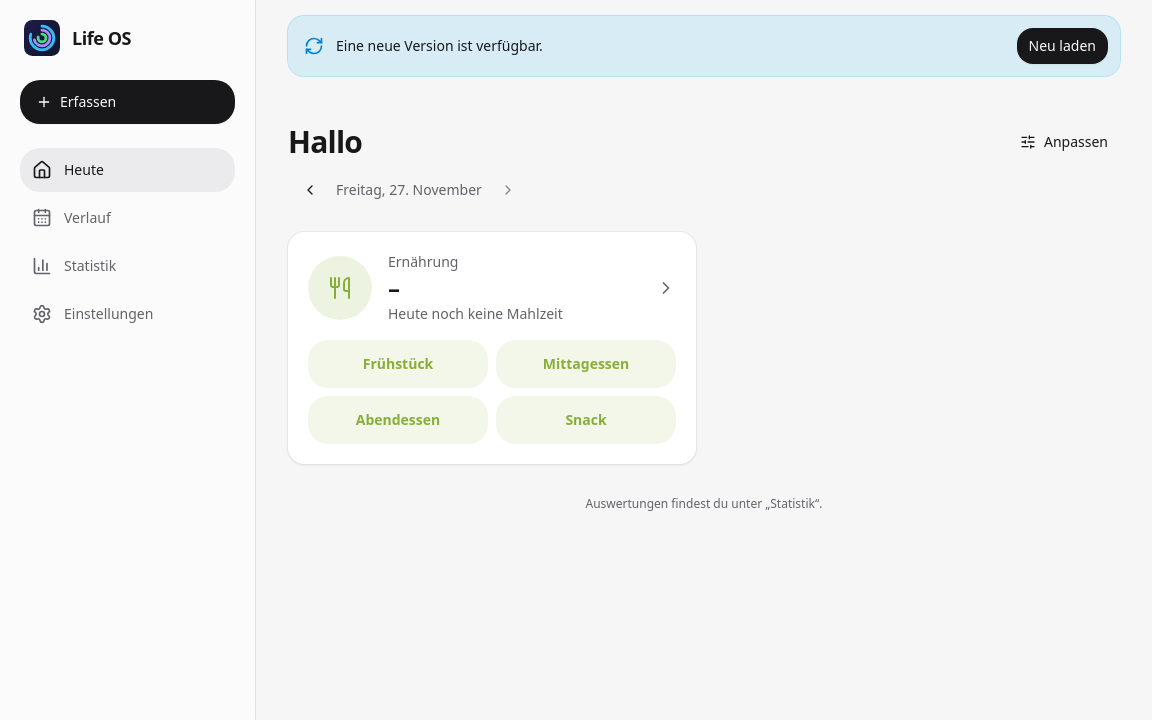
meals › records a meal with one tap and marks it as done
Click the button with aria-label "Frühstück erfassen" at {"x": 398, "y": 364}, box [308,340,488,388]
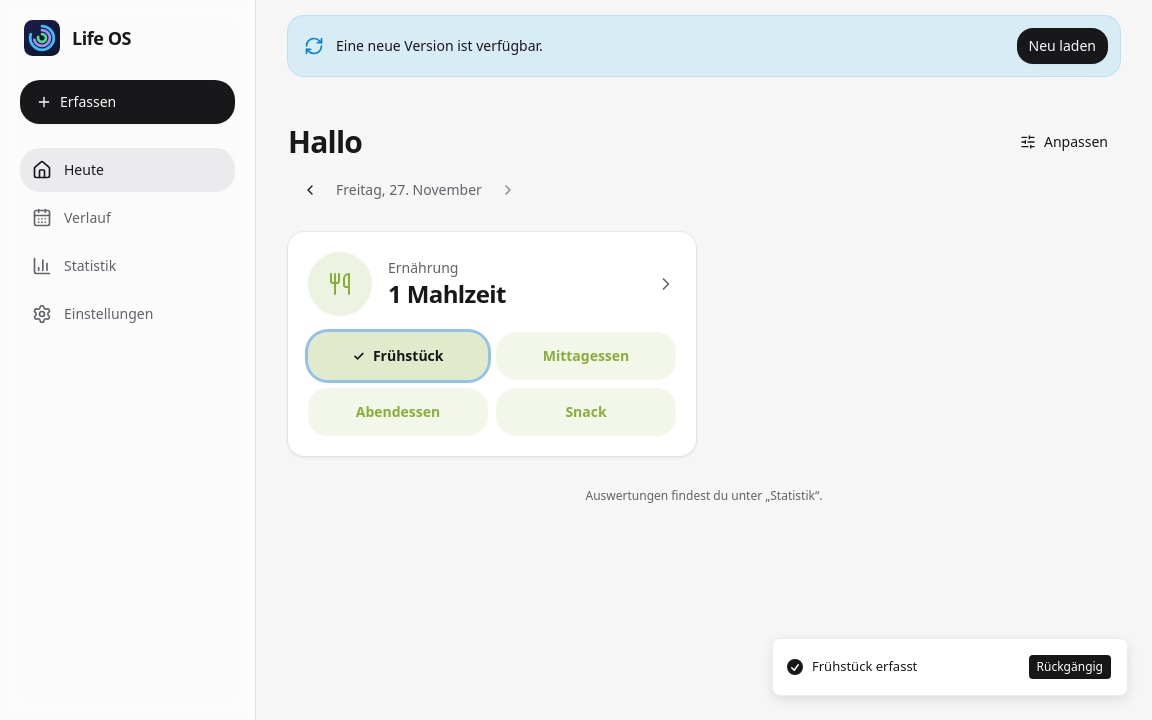
Expected: the text "1 Mahlzeit" is shown, [388,277,506,310]
